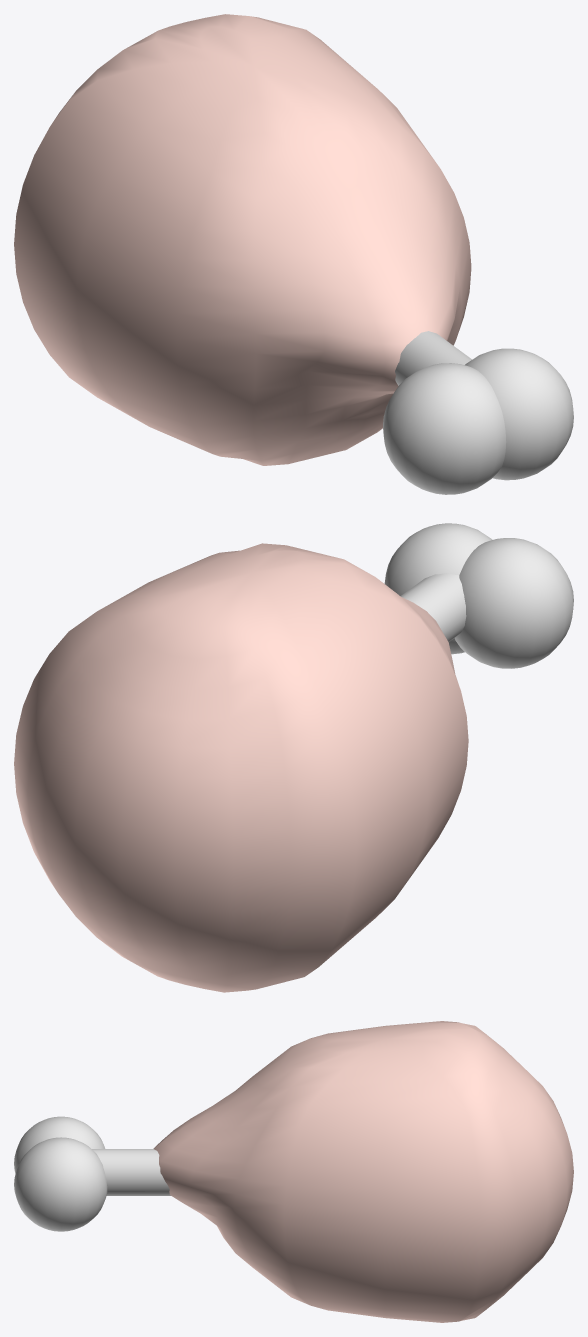
Rendered from chicken.fbx.
3 views of the same model, one above another, from view 1: azimuth 30°, elevation 25°; view 2: azimuth 150°, elevation 25°; view 3: azimuth 270°, elevation 25° (orthographic). The views are drawn at different scales.
Parts seen in each view (by area): view 1: pSphere1, pSphere2, pSphere3, pCylinder3; view 2: pSphere1, pSphere2, pSphere3, pCylinder3; view 3: pSphere1, pSphere3, pCylinder3, pSphere2.
Part boxes in pixels (left/top/right/bottom): pSphere1: left=14, top=14, right=471, bottom=465; pSphere2: left=383, top=363, right=506, bottom=494; pSphere3: left=465, top=348, right=573, bottom=480; pCylinder3: left=395, top=331, right=472, bottom=385; pSphere1: left=14, top=543, right=468, bottom=992; pSphere2: left=454, top=538, right=573, bottom=668; pSphere3: left=384, top=523, right=492, bottom=654; pCylinder3: left=400, top=573, right=466, bottom=641; pSphere1: left=153, top=1021, right=573, bottom=1322; pSphere3: left=14, top=1137, right=107, bottom=1231; pCylinder3: left=92, top=1149, right=170, bottom=1195; pSphere2: left=14, top=1116, right=105, bottom=1173.
Size of the model in its own units: 2.18 by 2.25 by 4.17.
